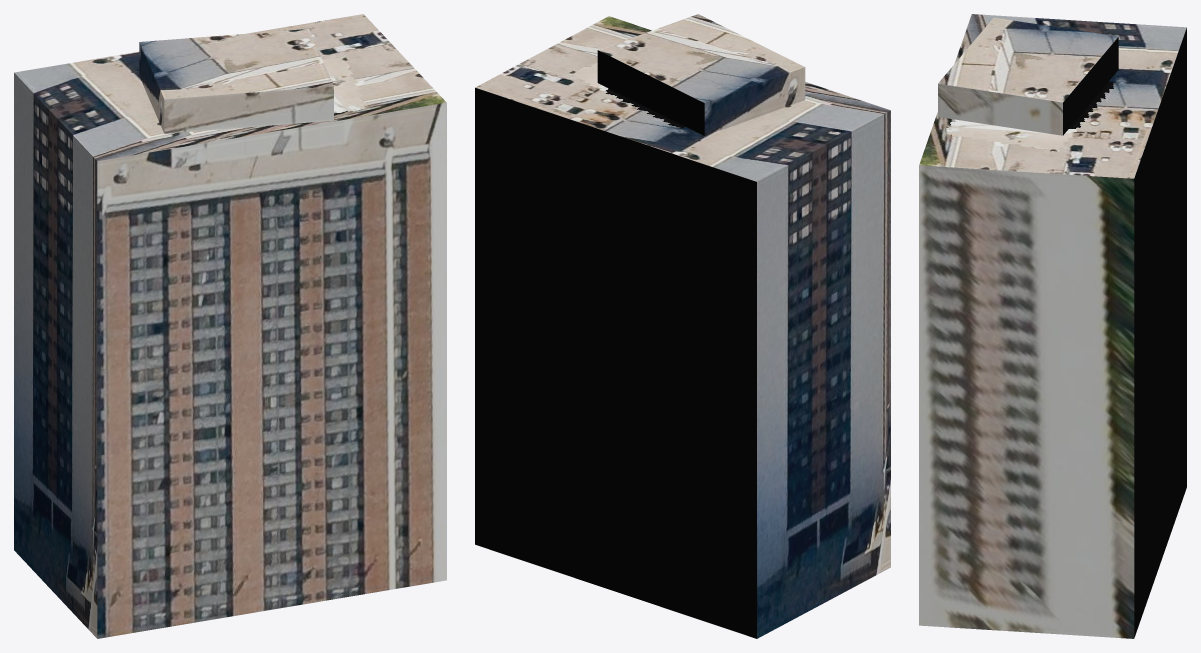
The model's file is building1.dae.
The picture shows the model from 3 angles, left to right: view 1: azimuth 30°, elevation 25°; view 2: azimuth 150°, elevation 25°; view 3: azimuth 270°, elevation 25°; orthographic projection. The views are drawn at different scales.
Visible parts, largest first — view 1: skpC426 (×3); view 2: skpC426 (×3); view 3: skpC426 (×3).
Boxes of the visible parts, bbox=[...] form: skpC426 (×3): bbox=[14, 14, 446, 638]; skpC426 (×3): bbox=[475, 14, 890, 638]; skpC426 (×3): bbox=[919, 14, 1186, 638].
Size of the model in its own units: 1639 by 1126 by 2289.
Materials: 2 (2 with a texture image).
